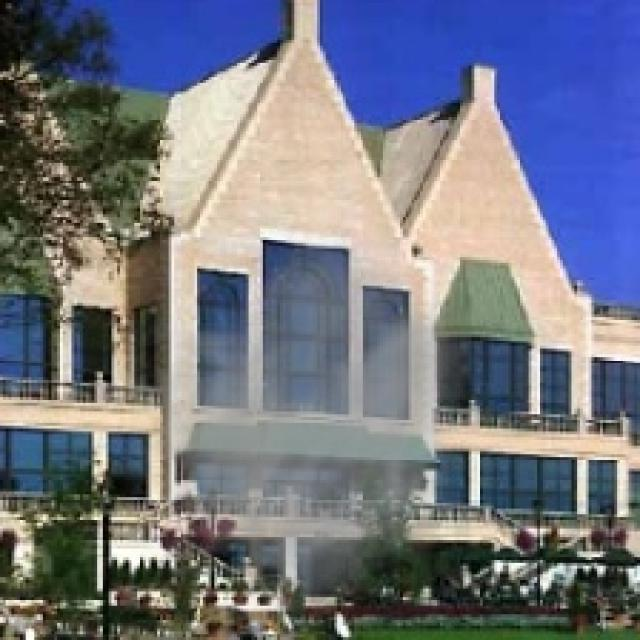Smoke: (111, 217, 472, 637)
